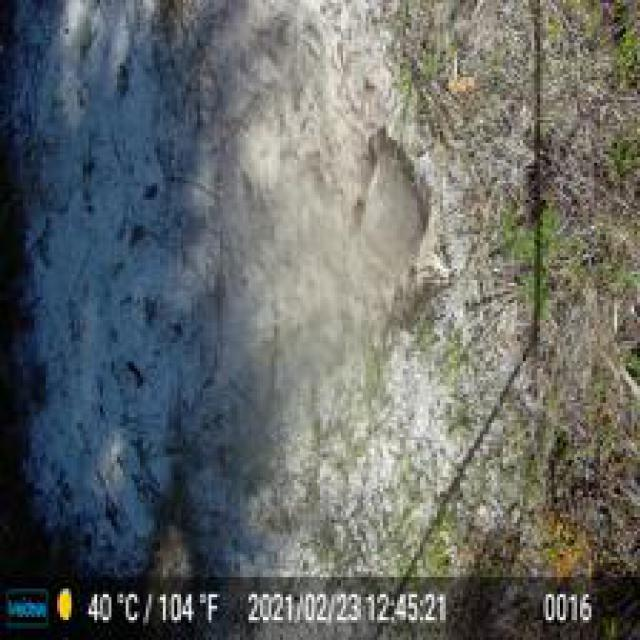tortoise: (348, 129, 432, 280)
